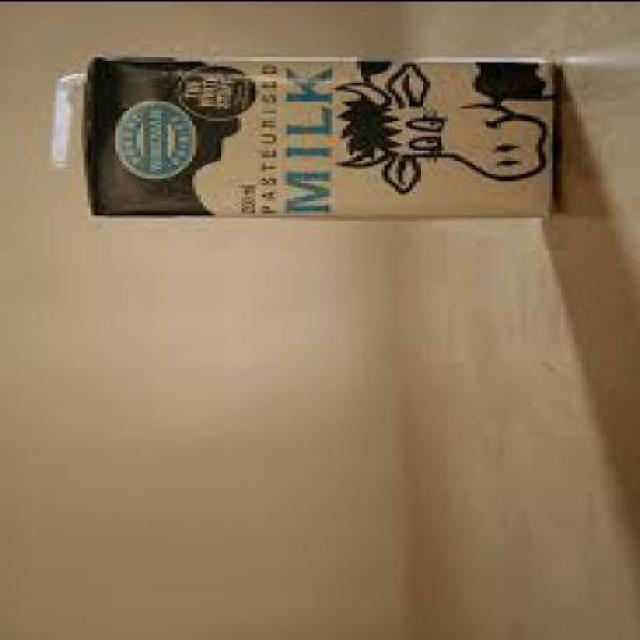CARDBOARD: (84, 56, 556, 219)
PLASTIC: (46, 74, 77, 174)
